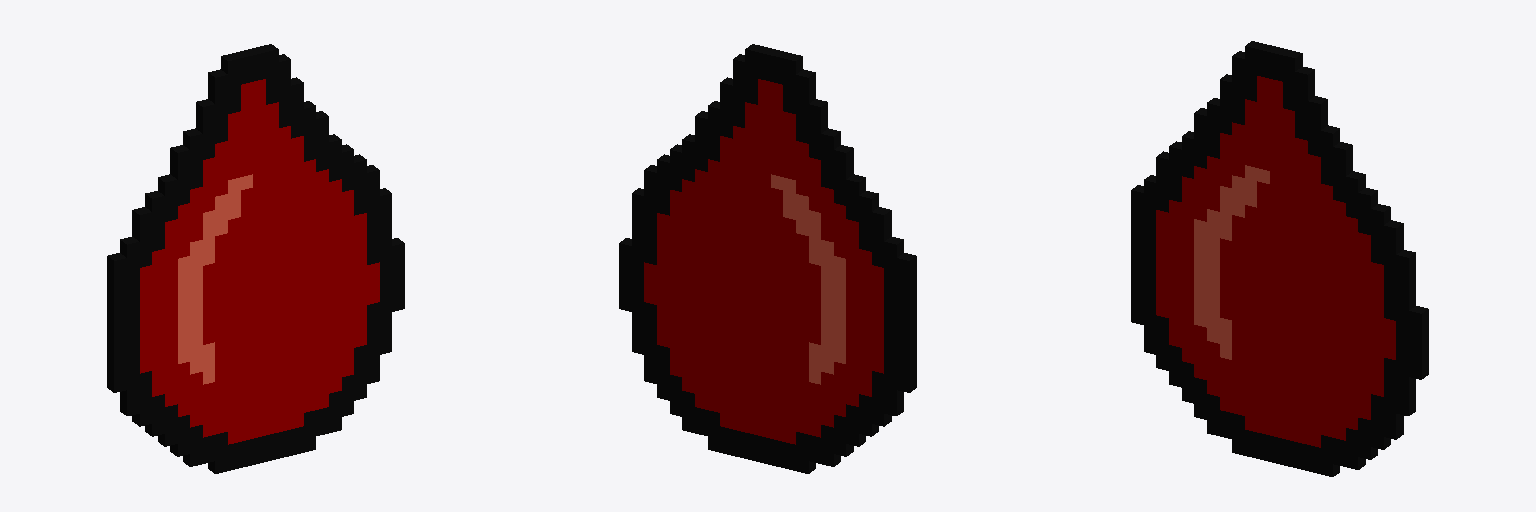
3 views of the same model, side by side, from view 1: azimuth 30°, elevation 25°; view 2: azimuth 150°, elevation 25°; view 3: azimuth 330°, elevation 25° (orthographic).
Parts seen in each view (by area): view 1: object 1; view 2: object 1; view 3: object 1.
Boxes of the visible parts, x1,y1,x2,y2 form: object 1: [107, 44, 404, 473]; object 1: [619, 44, 916, 473]; object 1: [1131, 41, 1428, 476].
Size of the model in its own units: 2.3 by 3.1 by 0.1.
1 materials, 1 textured.